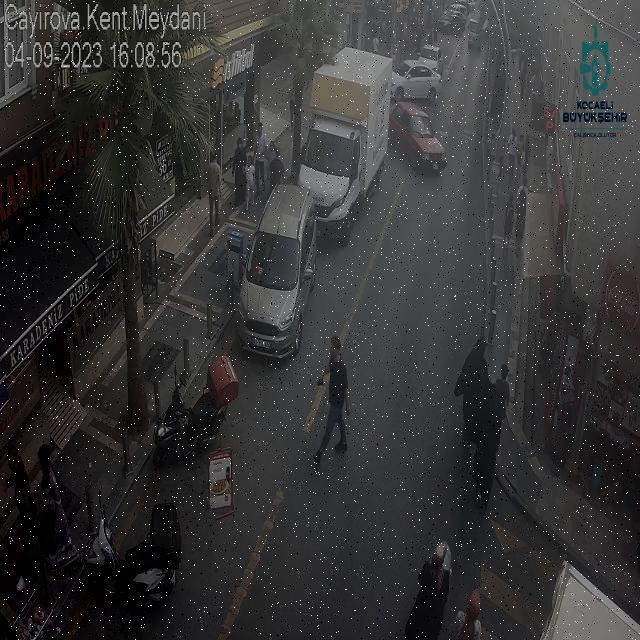Car: (214, 183, 333, 357), (394, 100, 453, 174), (388, 59, 441, 102)
Cycle: (67, 502, 194, 612), (150, 348, 234, 464)
Truck: (292, 49, 400, 235)
